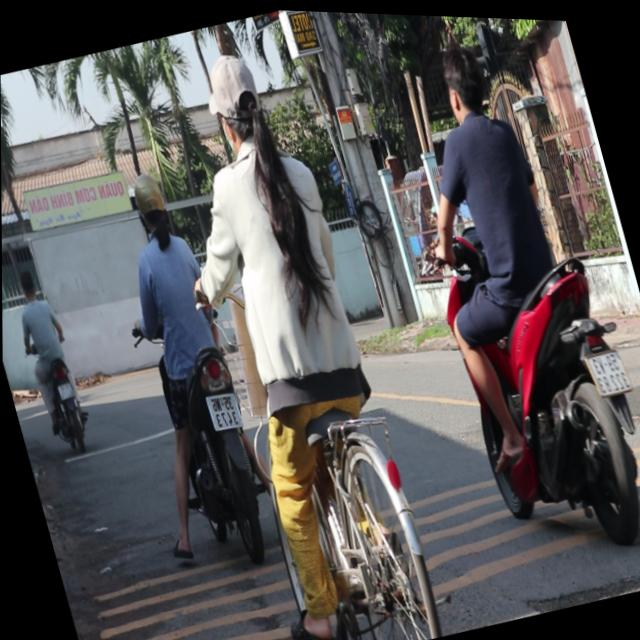helmet: (195, 43, 275, 154), (127, 166, 176, 239)
licenseplate: (375, 15, 640, 566), (84, 157, 282, 565)
motorcyclist: (433, 31, 500, 124)
nohelmet: (586, 342, 629, 389), (206, 388, 243, 428)
